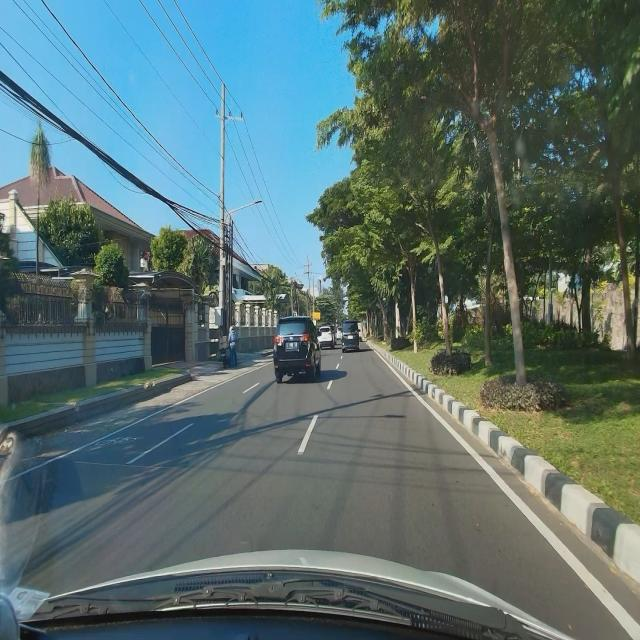car: (272, 314, 322, 385), (342, 320, 359, 354)
license-plate: (286, 342, 298, 350), (348, 335, 353, 340)
